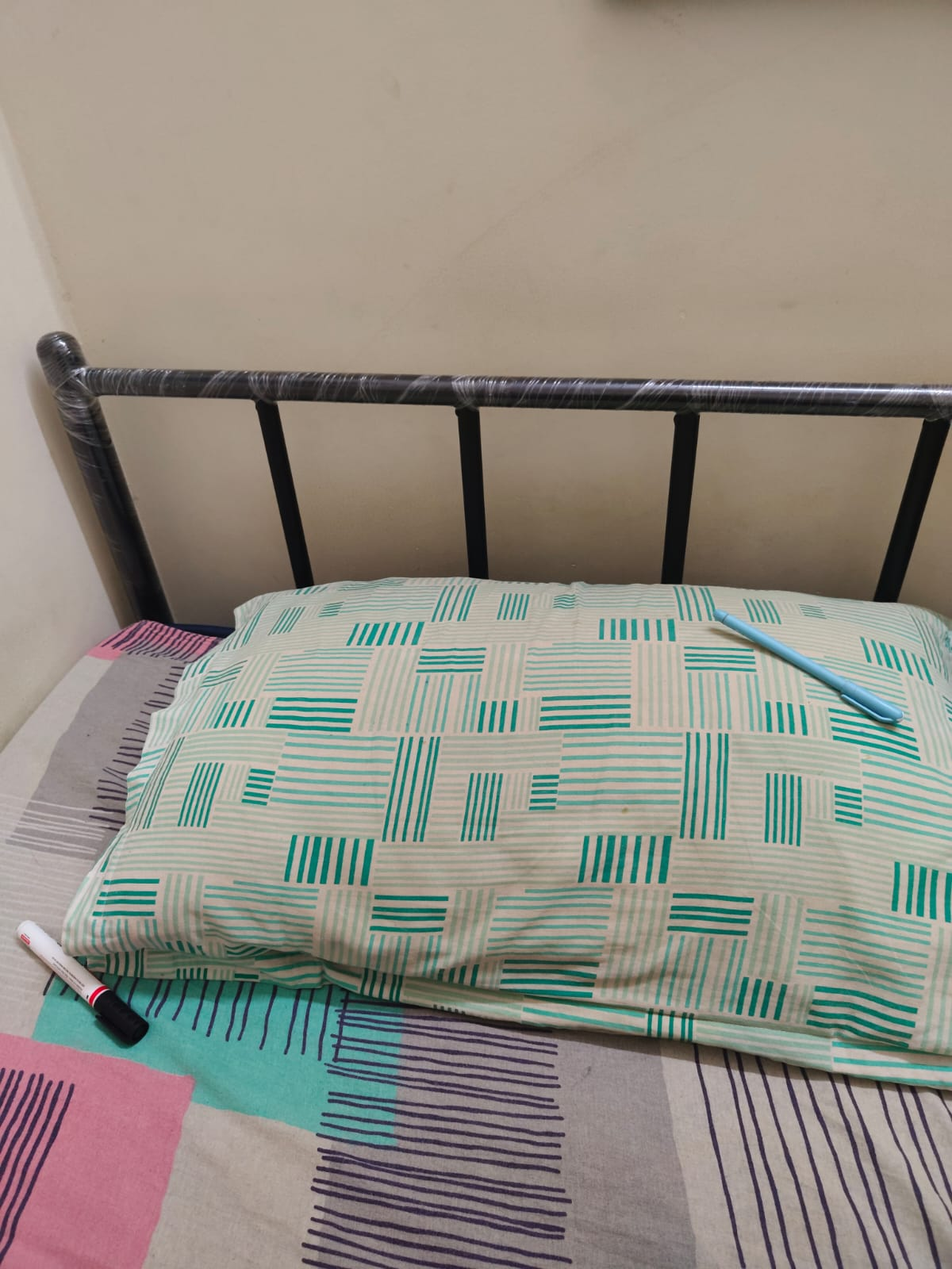case: (13, 915, 158, 1051)
pen: (706, 594, 916, 741)
